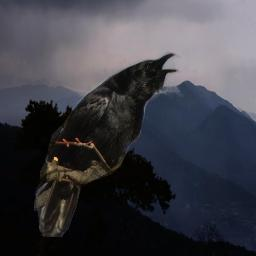Crow: (33, 49, 181, 237)
